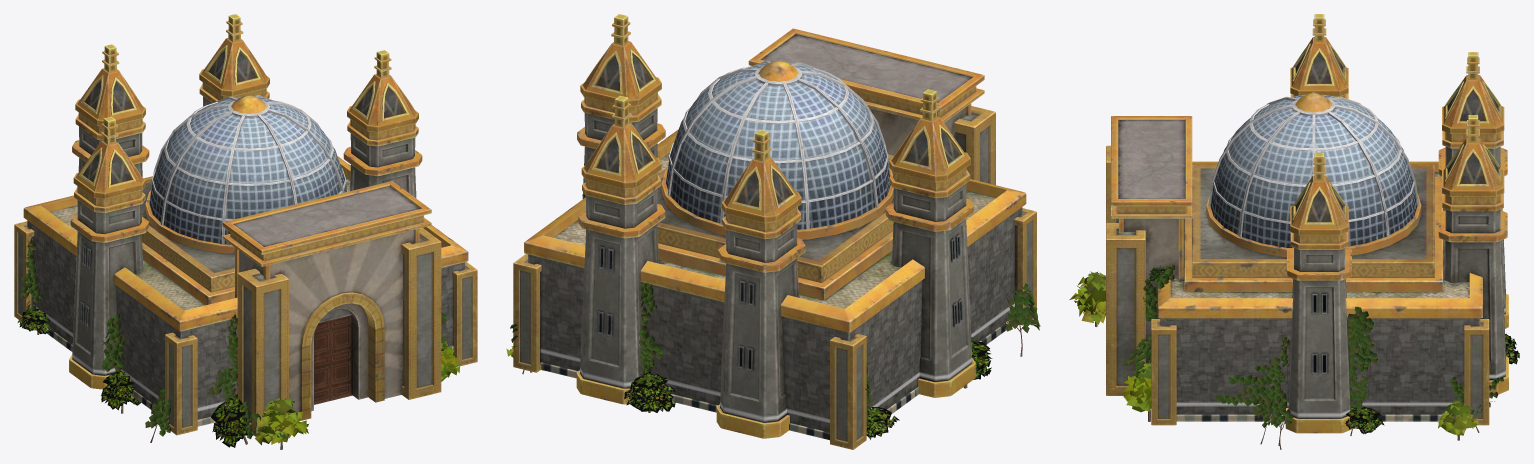
The model's file is 102-wonder-oranos.glb.
3 renders of one model, left to right at view 1: azimuth 30°, elevation 25°; view 2: azimuth 150°, elevation 25°; view 3: azimuth 270°, elevation 25°, orthographic. The views are drawn at different scales.
Size of the model in its own units: 16.07 by 12.25 by 17.47.
12 materials, 12 textured.
